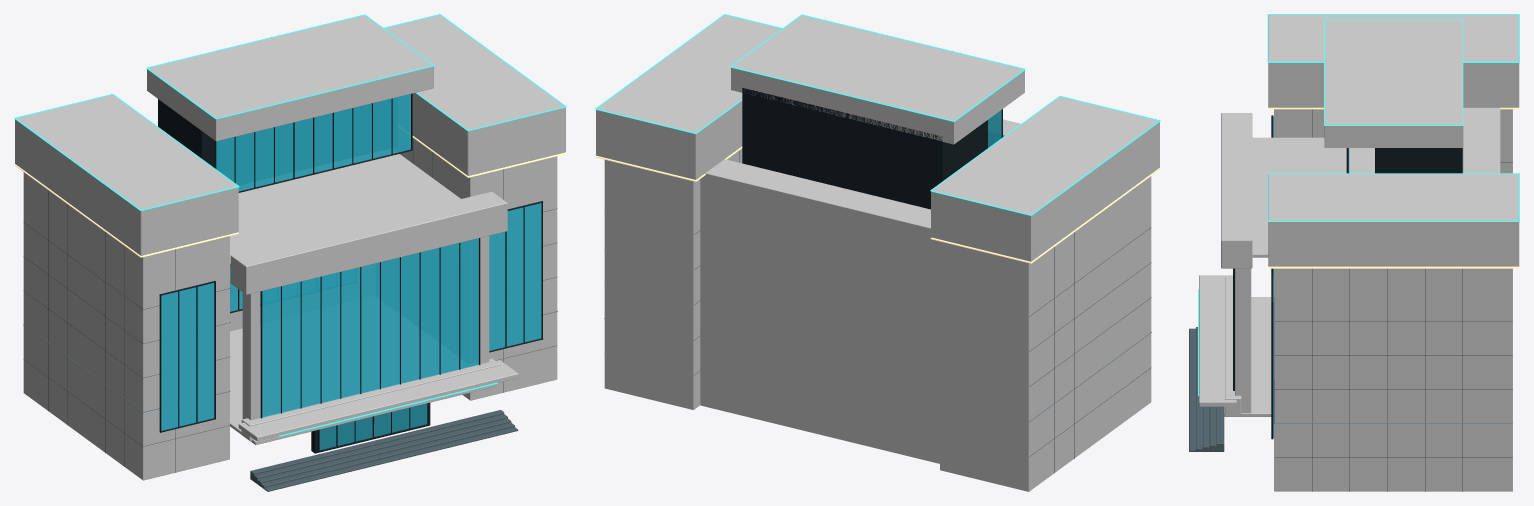
File: building_06.glb
3 renders of one model, left to right at view 1: azimuth 30°, elevation 25°; view 2: azimuth 150°, elevation 25°; view 3: azimuth 270°, elevation 25°, orthographic. The views are drawn at different scales.
Parts seen in each view (by area): view 1: Window glazing.005, Flanking civic towers, Cantilevered civic crowns, Upper pavilion roof, Floor slabs.003, Atrium main lintel, Window mullions.005, Civic entrance steps, Entrance canopy, Atrium columns, Cyan roof edges.005, Entrance recess.005 (+4 smaller); view 2: Flanking civic towers, Atrium rear wall, Cantilevered civic crowns, Upper pavilion roof, Upper glass pavilion rear, Cyan roof edges.005, Facade panel seams.005, Warm crown soffits; view 3: Flanking civic towers, Cantilevered civic crowns, Upper pavilion roof, Floor slabs.003, Atrium main lintel, Entrance canopy, Atrium rear wall, Atrium columns, Civic entrance steps, Upper glass pavilion rear, Facade panel seams.005, Cyan roof edges.005 (+3 smaller).
Boxes of the visible parts, x1,y1,x2,y2 form: Window glazing.005: (161, 94, 541, 450); Flanking civic towers: (23, 138, 557, 480); Cantilevered civic crowns: (15, 15, 565, 255); Upper pavilion roof: (147, 15, 433, 141); Floor slabs.003: (230, 154, 495, 444); Atrium main lintel: (230, 191, 507, 294); Window mullions.005: (159, 93, 542, 451); Civic entrance steps: (250, 410, 518, 491); Entrance canopy: (238, 360, 518, 441); Atrium columns: (242, 236, 489, 419); Cyan roof edges.005: (14, 14, 566, 210); Entrance recess.005: (311, 402, 430, 453); Flanking civic towers: (604, 148, 1151, 491); Atrium rear wall: (700, 159, 939, 463); Cantilevered civic crowns: (596, 15, 1159, 261); Upper pavilion roof: (731, 15, 1024, 144); Upper glass pavilion rear: (742, 87, 987, 209); Cyan roof edges.005: (595, 14, 1160, 215); Facade panel seams.005: (694, 151, 1151, 472); Warm crown soffits: (595, 146, 1160, 263); Flanking civic towers: (1274, 109, 1512, 491); Cantilevered civic crowns: (1268, 14, 1519, 266); Upper pavilion roof: (1324, 19, 1462, 147); Floor slabs.003: (1224, 137, 1374, 416); Atrium main lintel: (1221, 113, 1252, 268); Entrance canopy: (1199, 275, 1236, 406); Atrium rear wall: (1462, 107, 1500, 173); Atrium columns: (1235, 268, 1251, 413); Civic entrance steps: (1189, 327, 1224, 451); Upper glass pavilion rear: (1375, 148, 1462, 173); Facade panel seams.005: (1274, 109, 1512, 491); Cyan roof edges.005: (1267, 14, 1519, 221).
Bounding box in the file's own units: 39.06 × 28.03 × 26.35.
